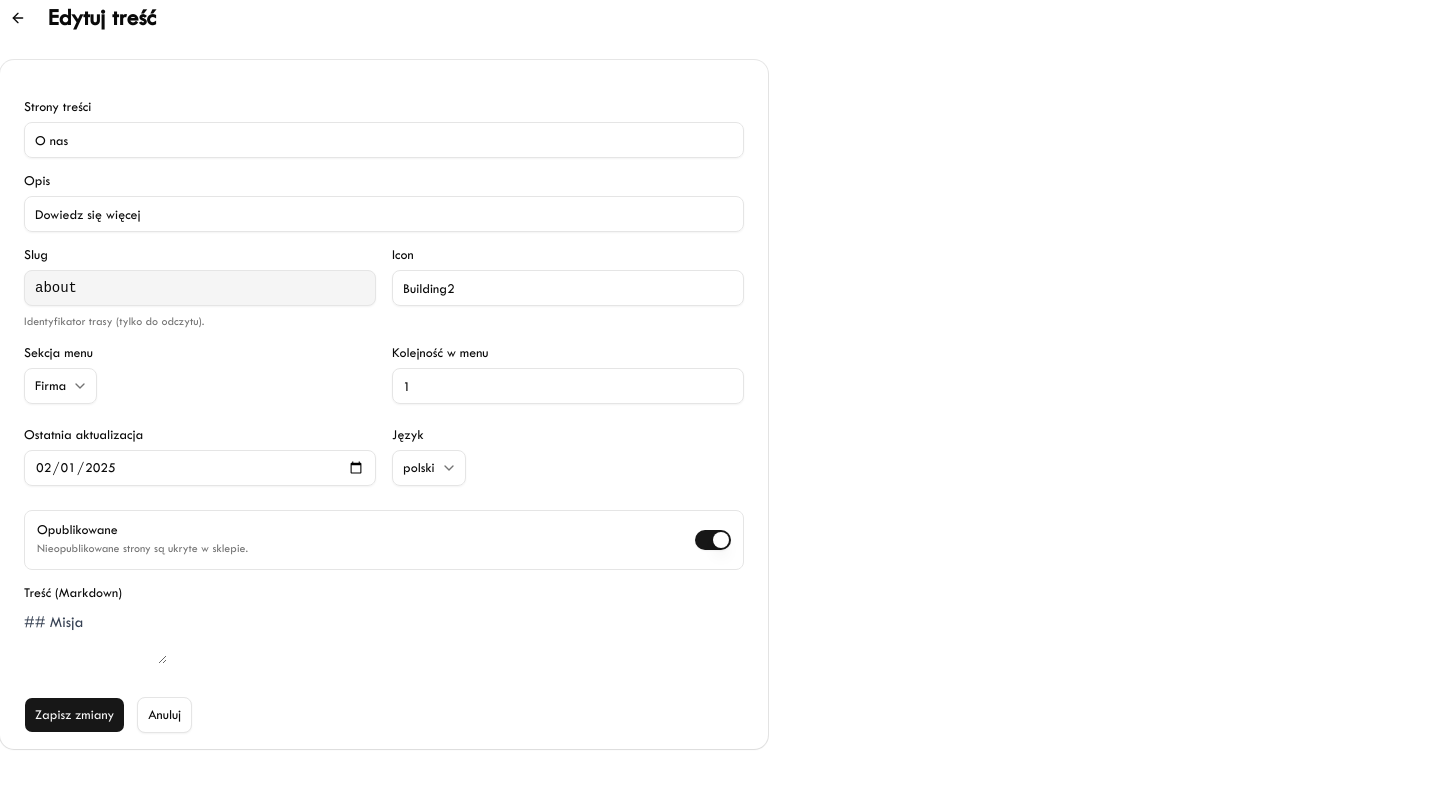
Test: ContentEditPage › saves and then prompts to rebuild
Click the button "Zapisz zmiany": click(75, 715) x1=24 y1=697 x2=125 y2=733
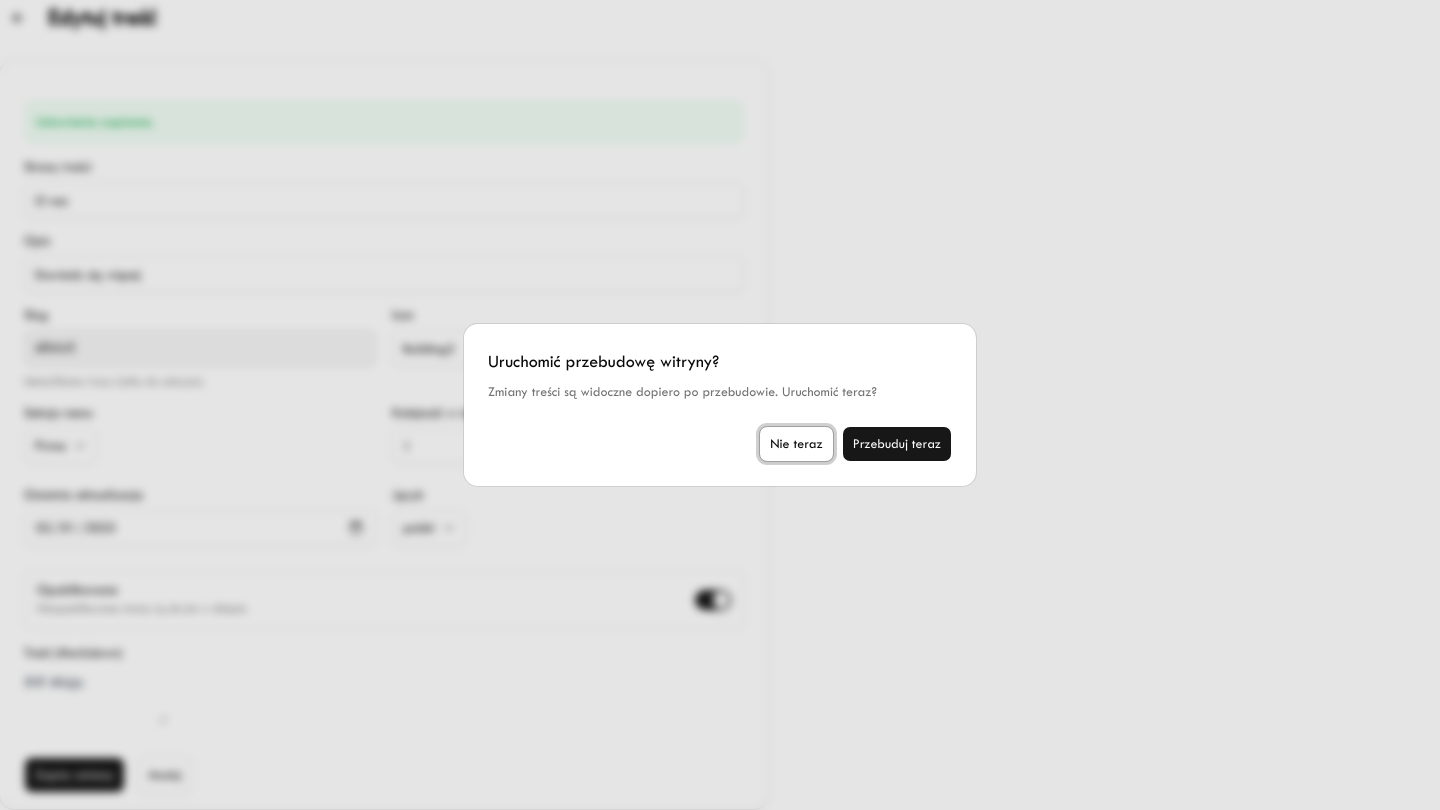
Now the heading "Uruchomić przebudowę witryny?" is shown, box x1=488 y1=348 x2=719 y2=376
Click the button "Przebuduj teraz": click(897, 444) x1=842 y1=426 x2=952 y2=462
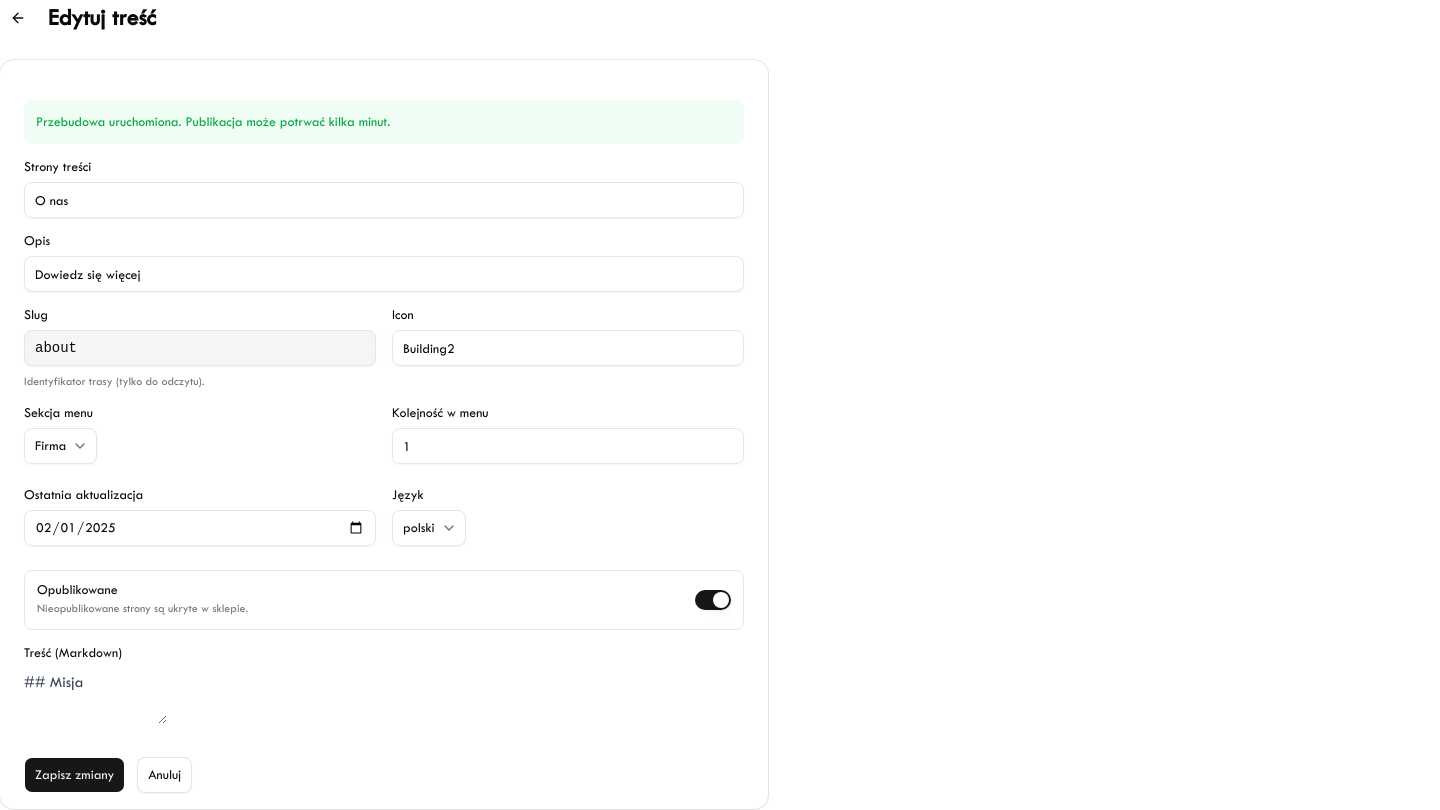
Now the text "Przebudowa uruchomiona. Publikacja może potrwać kilka minut." is shown, box x1=24 y1=100 x2=744 y2=144
